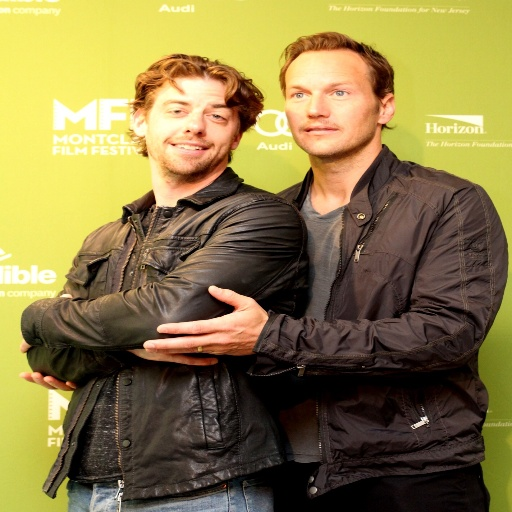hand: (141, 285, 271, 359), (16, 292, 72, 353), (129, 348, 220, 368), (17, 371, 77, 390)
